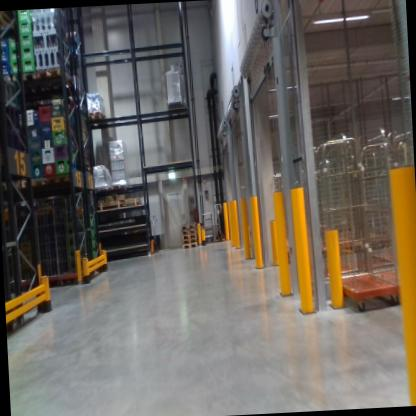pallet: (34, 66, 82, 90), (9, 67, 41, 96), (91, 195, 140, 213), (30, 168, 73, 188), (0, 11, 21, 33), (83, 105, 108, 122), (0, 175, 23, 192), (92, 181, 111, 198), (108, 180, 131, 194), (19, 176, 36, 190), (180, 220, 196, 230), (180, 233, 197, 241), (181, 238, 198, 246), (183, 241, 199, 249), (180, 228, 197, 235)
pallet_truck: (211, 200, 226, 243), (146, 211, 159, 255)
